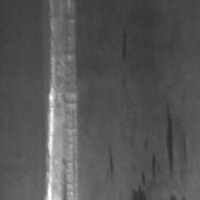inclusion: (129, 152, 158, 200), (161, 102, 178, 178), (104, 139, 117, 179), (117, 29, 131, 66)
scratches: (44, 1, 80, 200)
